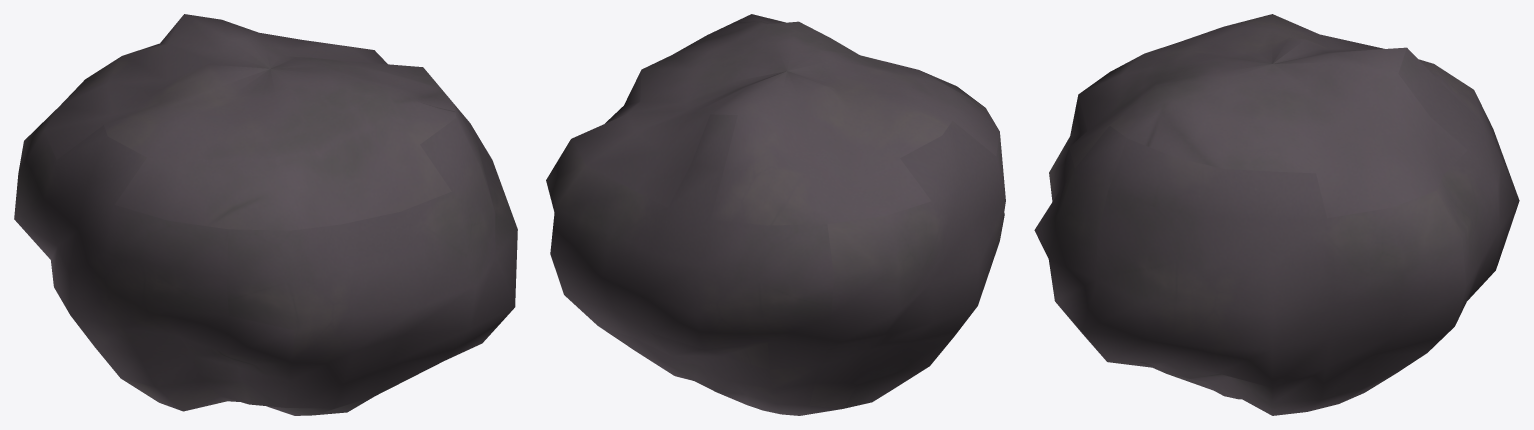
The model's file is SM_Island_Rock_A.fbx.
3 views of the same model, side by side, from view 1: azimuth 30°, elevation 25°; view 2: azimuth 150°, elevation 25°; view 3: azimuth 270°, elevation 25° (orthographic). The views are drawn at different scales.
Parts seen in each view (by area): view 1: SM_Island_Rock_A; view 2: SM_Island_Rock_A; view 3: SM_Island_Rock_A.
Part boxes in pixels (left/top/right/bottom): SM_Island_Rock_A: left=14, top=14, right=517, bottom=415; SM_Island_Rock_A: left=546, top=14, right=1005, bottom=415; SM_Island_Rock_A: left=1034, top=14, right=1519, bottom=415.
Size of the model in its own units: 101 by 81.54 by 108.
Materials: 1 (1 with a texture image).
